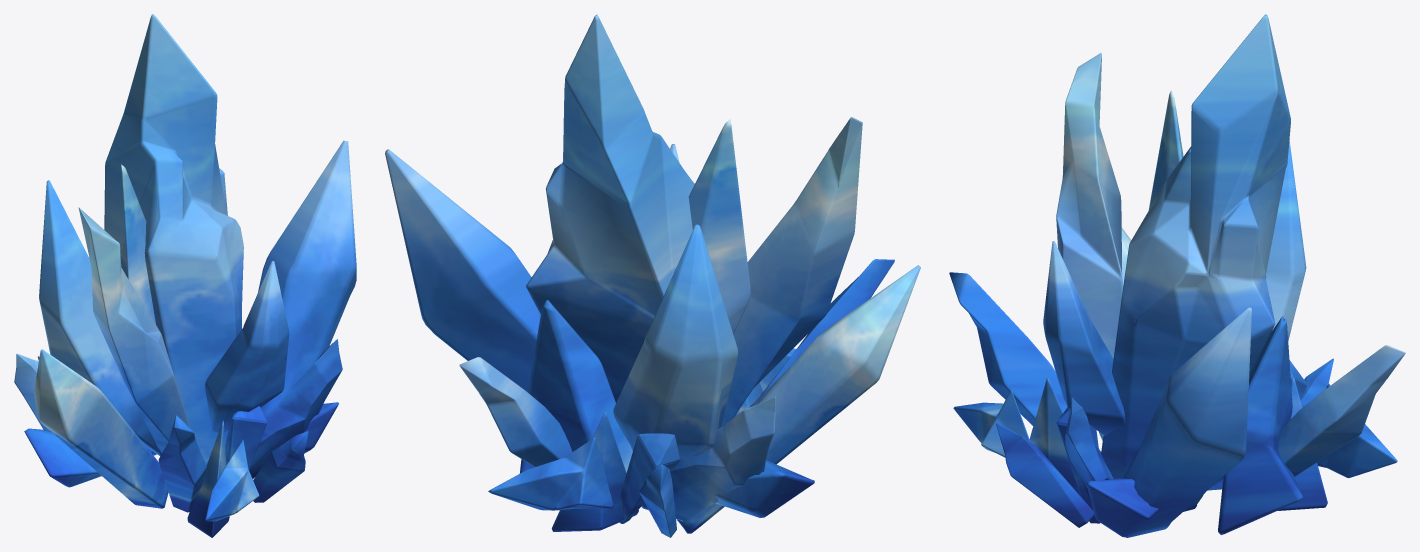
File: bingci_02.FBX
3 renders of one model, left to right at view 1: azimuth 30°, elevation 25°; view 2: azimuth 150°, elevation 25°; view 3: azimuth 270°, elevation 25°, orthographic. The views are drawn at different scales.
Visible parts, largest first — view 1: Object49; view 2: Object49; view 3: Object49.
Part boxes in pixels (x1,y1,x2,y2): Object49: (14, 14, 356, 537); Object49: (385, 14, 920, 537); Object49: (949, 14, 1405, 537).
Bounding box in the file's own units: 315 × 359 × 285.
